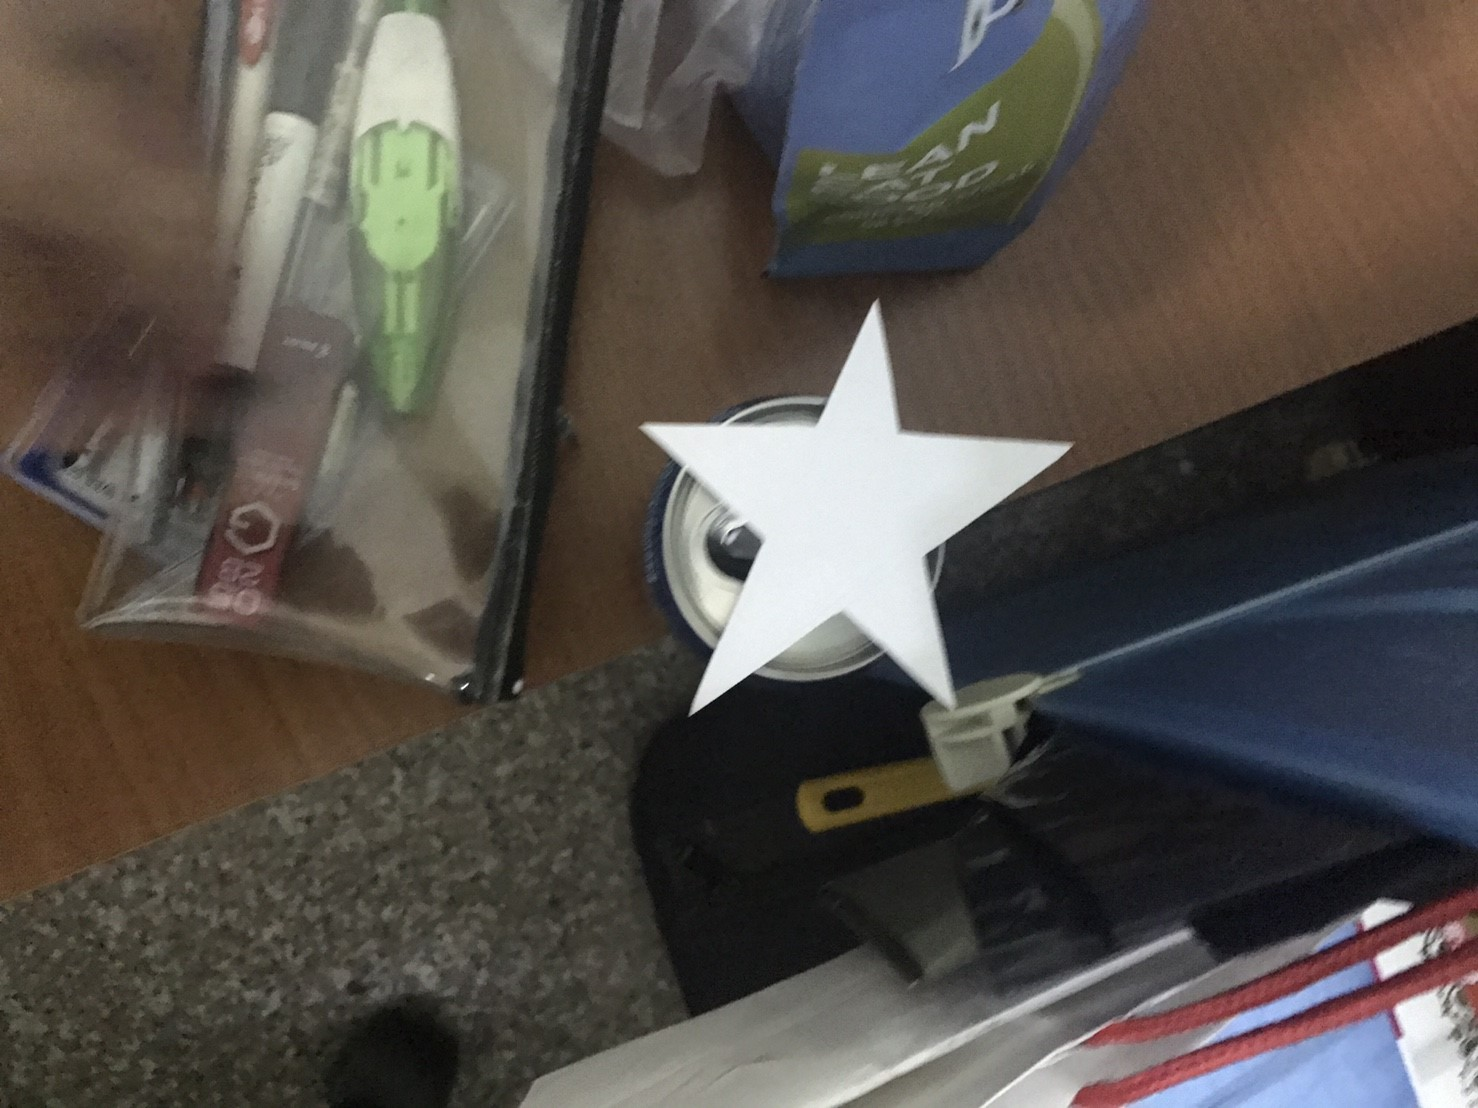star: (599, 280, 1107, 750)
